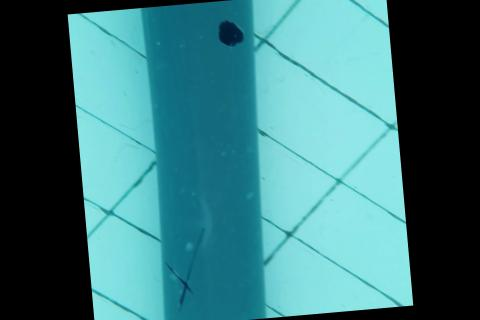kebocoran: (215, 19, 246, 49)
keretakan: (162, 229, 212, 309)
